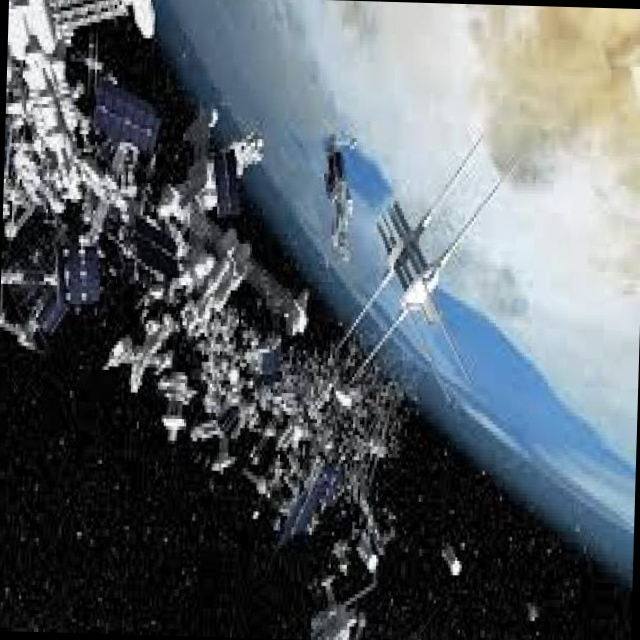large_debris: (0, 0, 510, 640)
